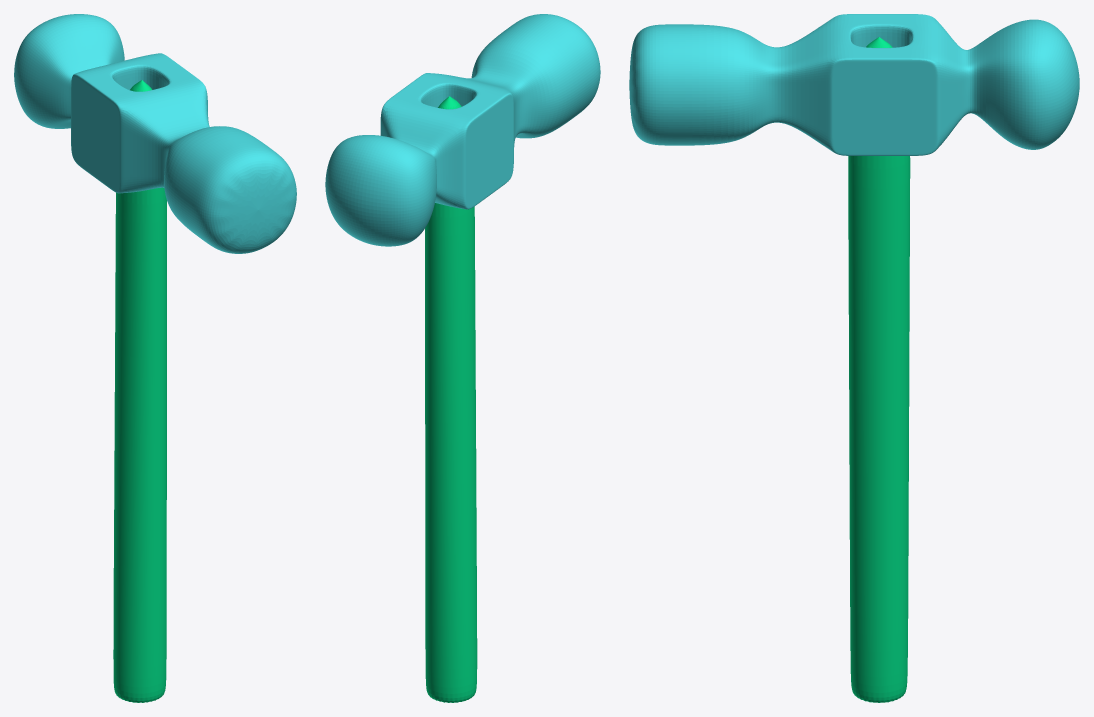
Rendered from hammer123.fbx.
3 views of the same model, side by side, from view 1: azimuth 30°, elevation 25°; view 2: azimuth 150°, elevation 25°; view 3: azimuth 270°, elevation 25° (orthographic). The views are drawn at different scales.
Parts seen in each view (by area): view 1: Cube.001, Cylinder; view 2: Cube.001, Cylinder; view 3: Cube.001, Cylinder.
Boxes of the visible parts, x1,y1,x2,y2 form: Cube.001: [14, 14, 296, 253]; Cylinder: [113, 80, 166, 702]; Cube.001: [325, 14, 600, 246]; Cylinder: [425, 96, 477, 702]; Cube.001: [629, 14, 1079, 155]; Cylinder: [848, 37, 910, 702].
Bounding box in the file's own units: 232 × 1362 × 835.
